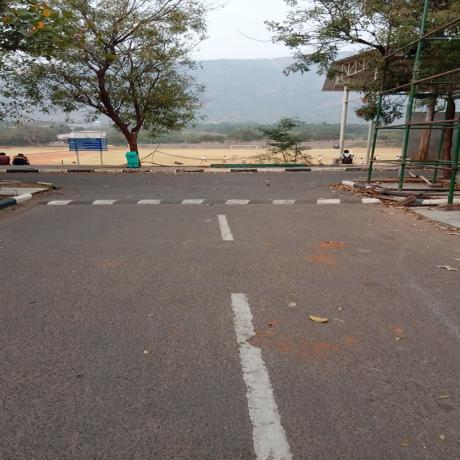Speed Bump: (38, 197, 390, 206)
